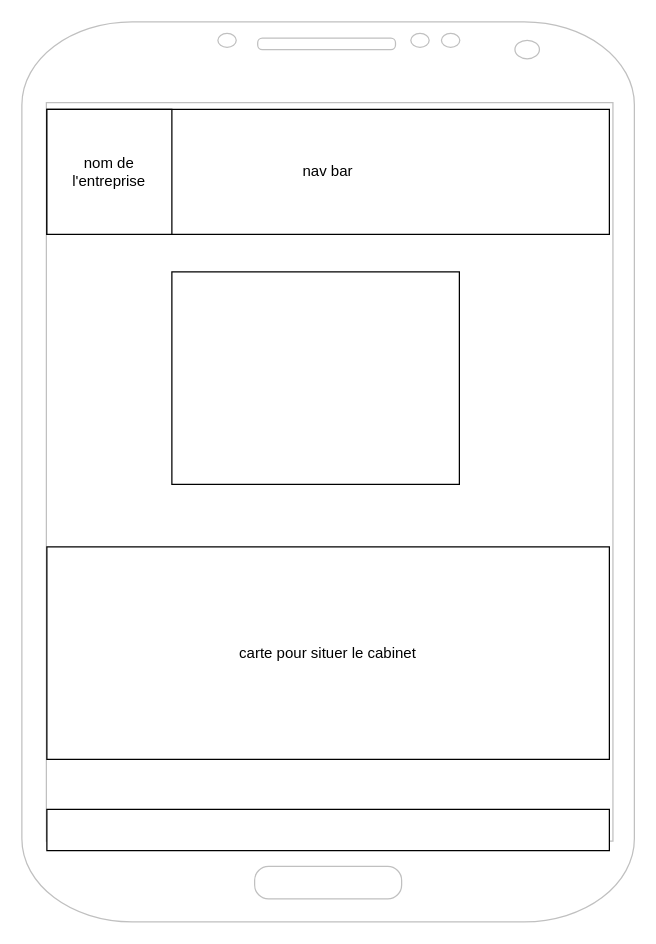
Image size: 656x944. Some labels were removed from this diagram. The box of each missing label's shape, as (x1, y1, x2, y2) in pixels:
footer: (46, 808, 609, 851)
formulaire pour contacter les médecins: (171, 271, 459, 484)
